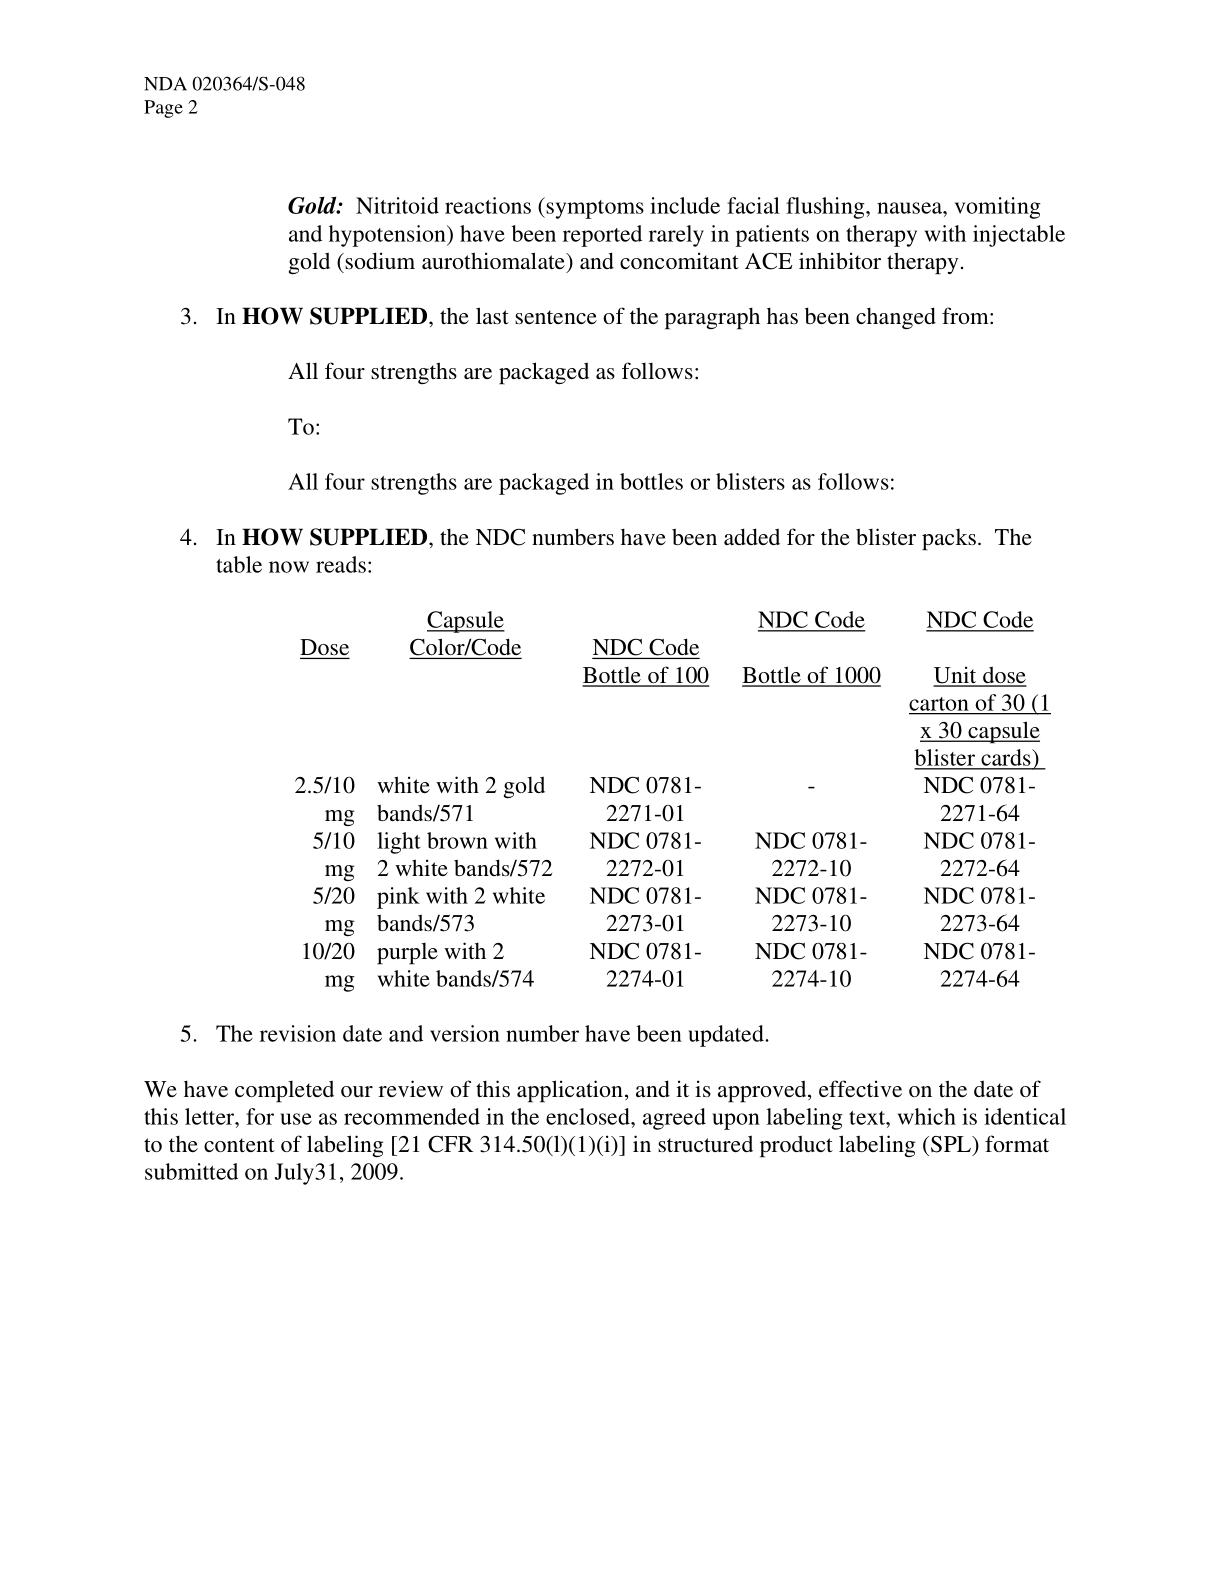nolines: (291, 604, 1054, 996)
